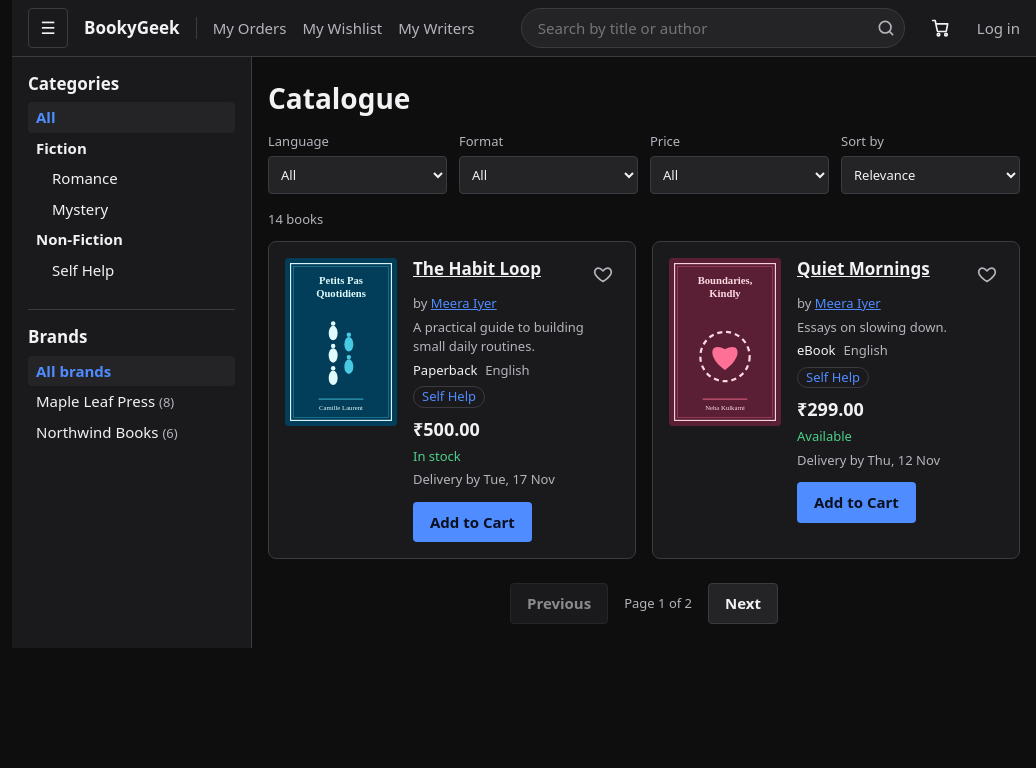
Test: CataloguePage › searches by text from the header and keeps it in the URL
Expected: the heading "The Habit Loop" is shown, [413,258,541,280]
In the search field named "Search the catalogue": x=695, y=28 [522,9,868,47], type "  habit  "
Then press Enter
(page scrolled)
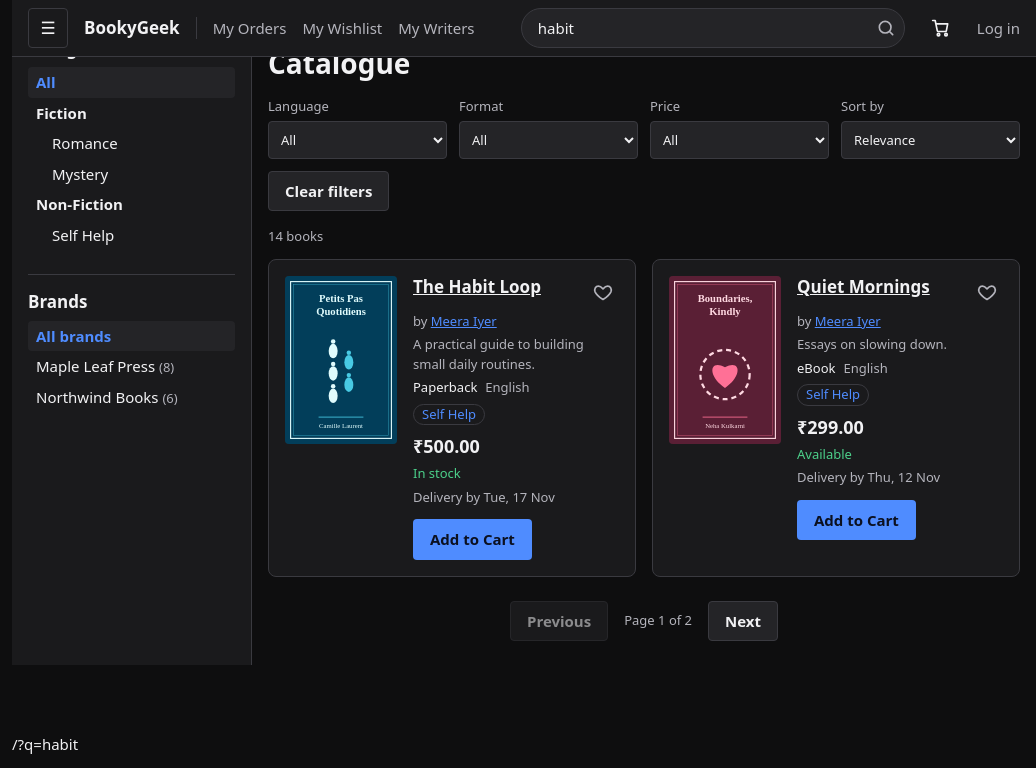
Result: the text with test id "url" reads "/?q=habit" at [12,734,78,754]
